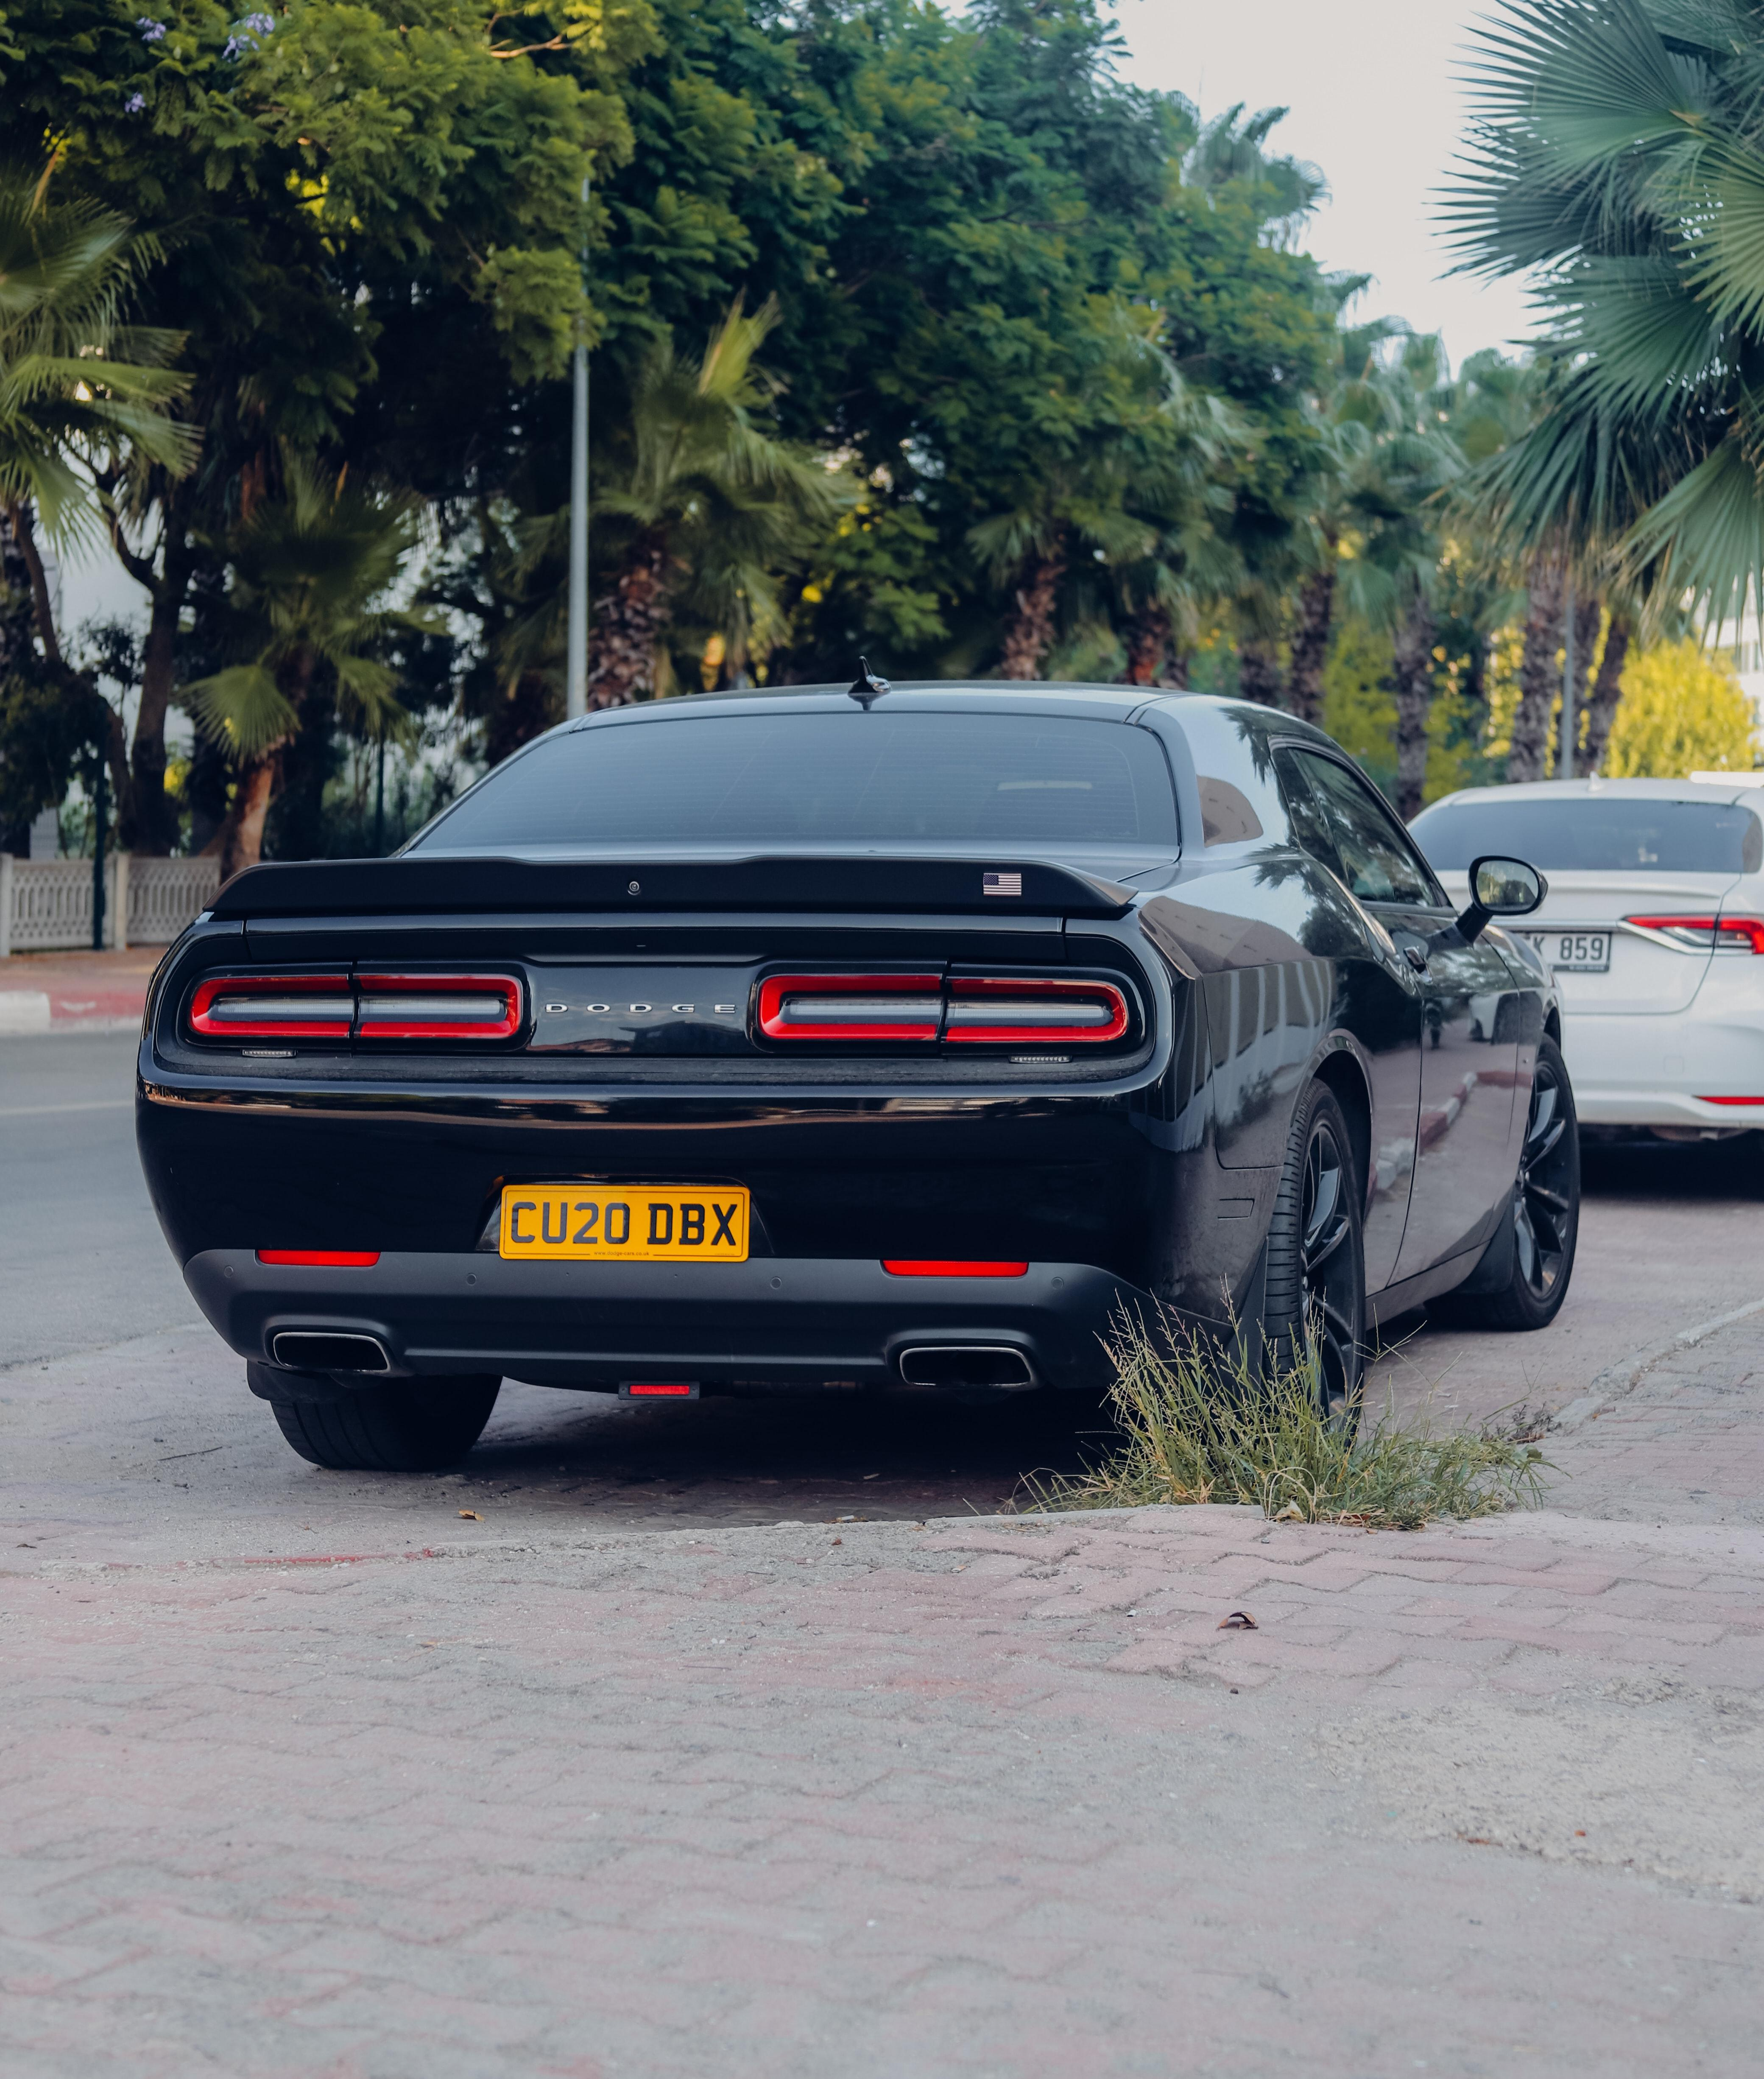dodge: (530, 978, 746, 1045)
